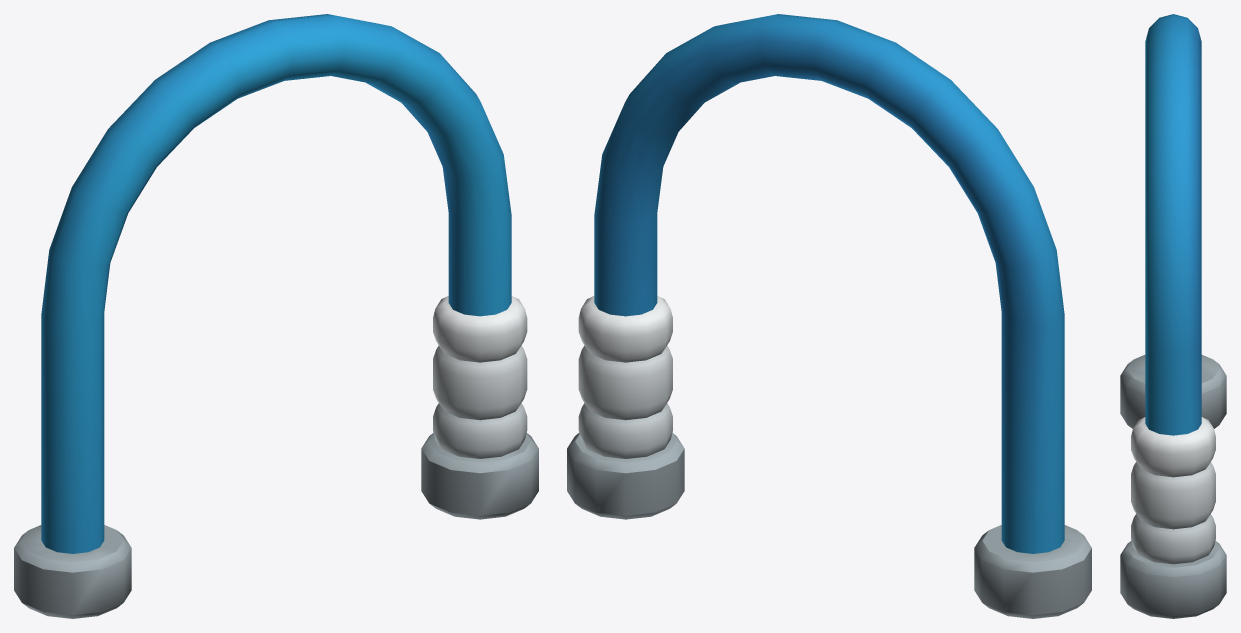
Rendered from arch-blue.glb.
3 views of the same model, side by side, from view 1: azimuth 30°, elevation 25°; view 2: azimuth 150°, elevation 25°; view 3: azimuth 270°, elevation 25° (orthographic). The views are drawn at different scales.
Parts seen in each view (by area): view 1: arch_blue; view 2: arch_blue; view 3: arch_blue.
Part boxes in pixels (left/top/right/bottom): arch_blue: left=14, top=14, right=538, bottom=618; arch_blue: left=567, top=14, right=1091, bottom=618; arch_blue: left=1120, top=14, right=1226, bottom=618.
Size of the model in its own units: 3.75 by 3.7 by 0.75.
1 material, 1 textured.
